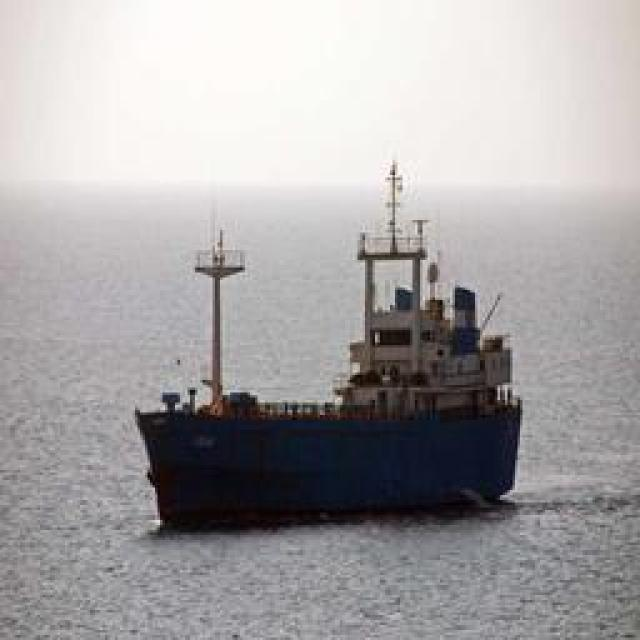ship2: (132, 162, 526, 533)
